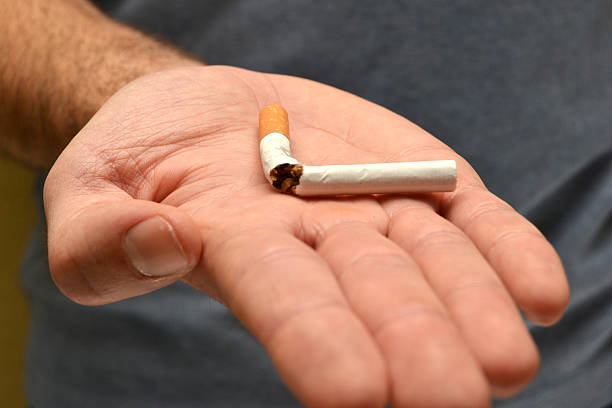cigarette: (279, 156, 461, 198), (254, 98, 302, 198)
